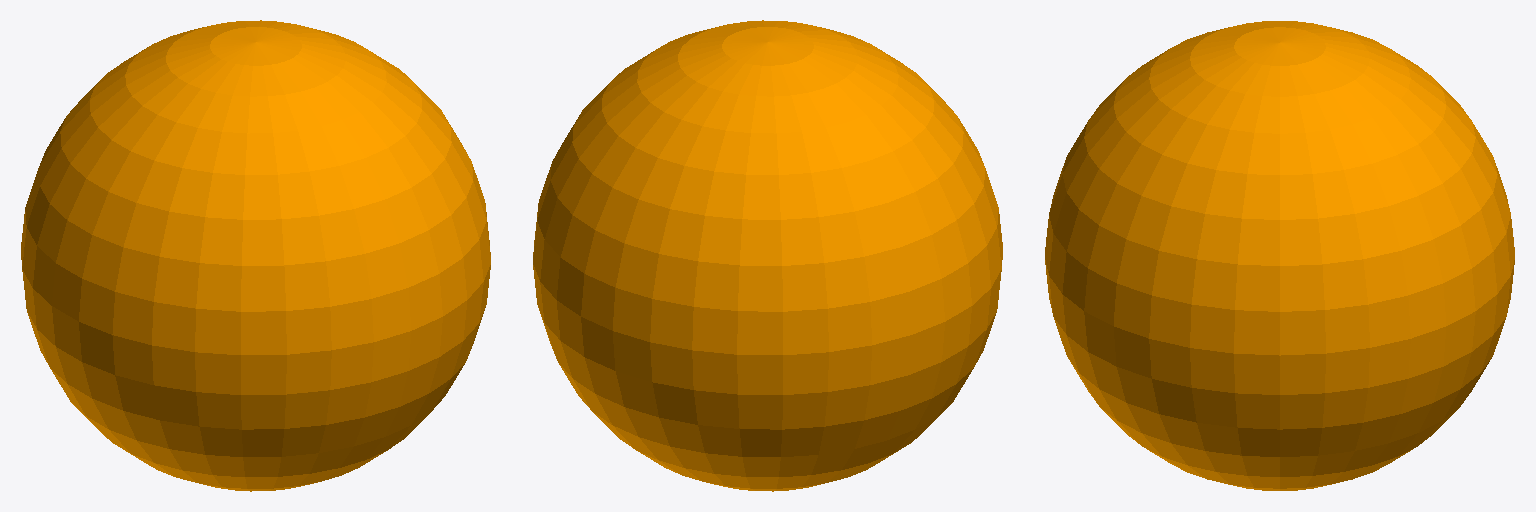
The robot description file, URDF, robot "sphere":
<?xml version="1.0" ?>
<robot name="sphere">
    <link name="sphere">
        <visual>
            <origin rpy="0 0 0" xyz="0 0 0"/>
            <geometry>
                <sphere radius="0.0315"/>
            </geometry>
            <material>
                <!-- <mesh filename="sphere_with_texture.obj"/> -->
                <color rgba="1 0.64 0 1"/> red color for visualization
            </material>
        </visual>
    </link>
</robot>

--- What the picture shows (computed from the rendered views, not written in the file) ---
3 views of the same robot in one strip: view 1: azimuth 30°, elevation 25°; view 2: azimuth 150°, elevation 25°; view 3: azimuth 270°, elevation 25° (orthographic).
Robot: sphere — 1 links, 0 joints (none); root link sphere; default pose: all joints at 0.
Visible links, largest first — view 1: sphere; view 2: sphere; view 3: sphere.
Boxes of the visible links, bbox=[...] form: sphere: bbox=[21, 20, 490, 491]; sphere: bbox=[533, 20, 1002, 491]; sphere: bbox=[1045, 21, 1514, 490].
Bounding box of the posed robot: 0.063 × 0.063 × 0.063 m (x, y, z).
Geometry: primitives only (box / cylinder / sphere), no mesh files.